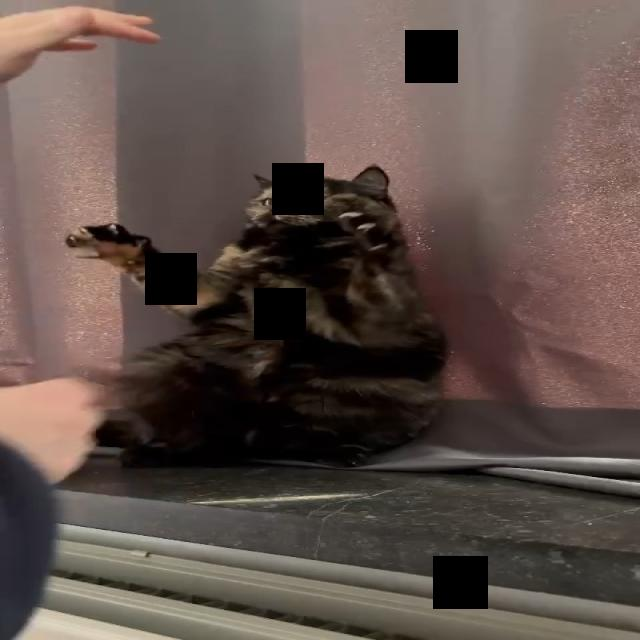authorized: (64, 164, 449, 468)
